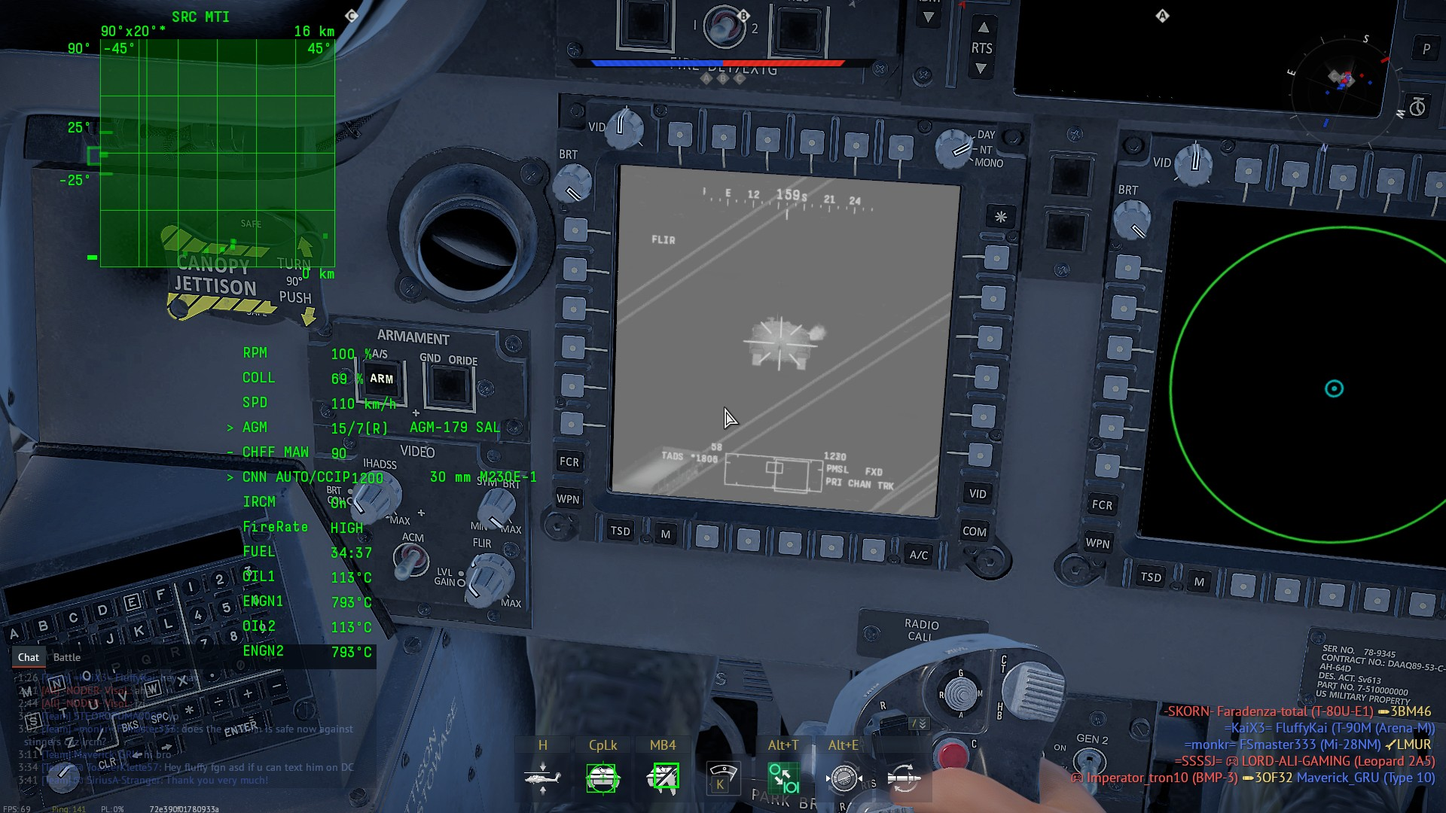t72b: (747, 319, 812, 372)
